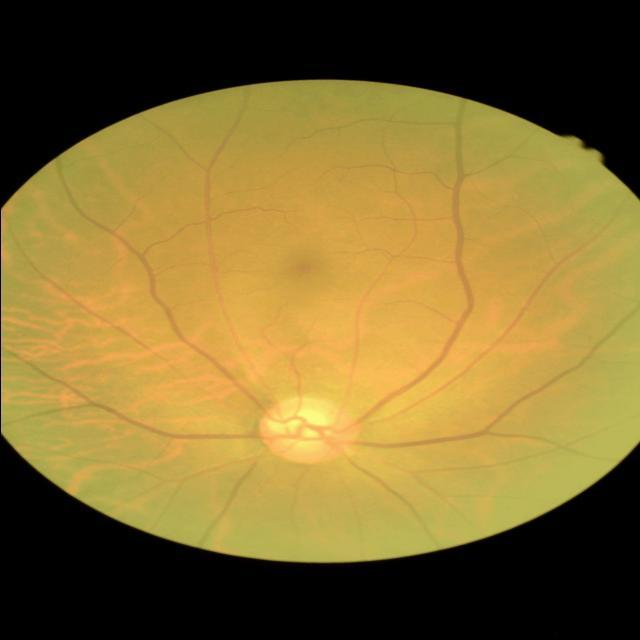cup: (268, 408, 332, 450)
disk: (258, 396, 360, 464)
